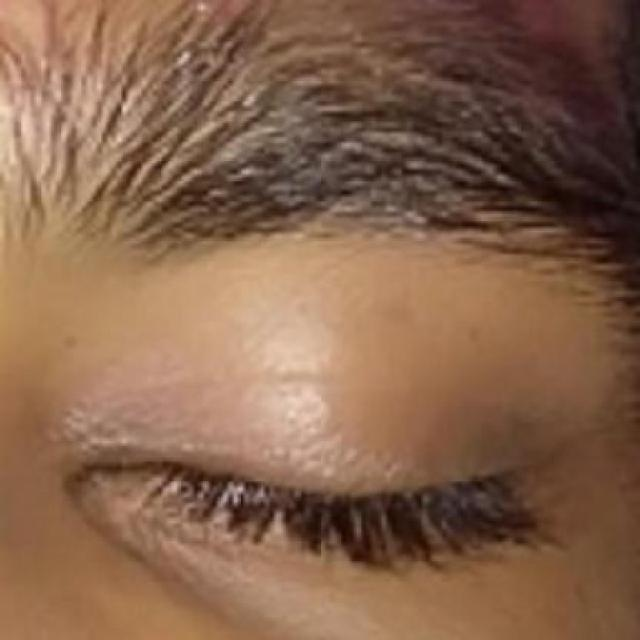drowsy: (79, 371, 527, 635)
